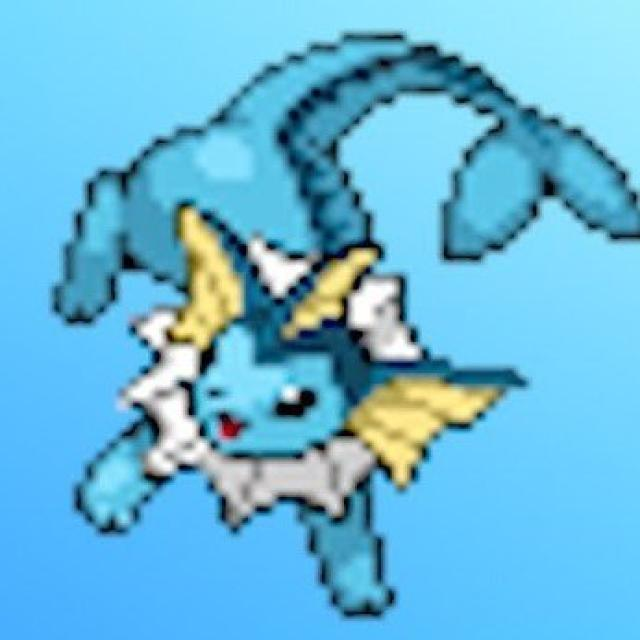Vaporeon: (59, 37, 535, 533)
